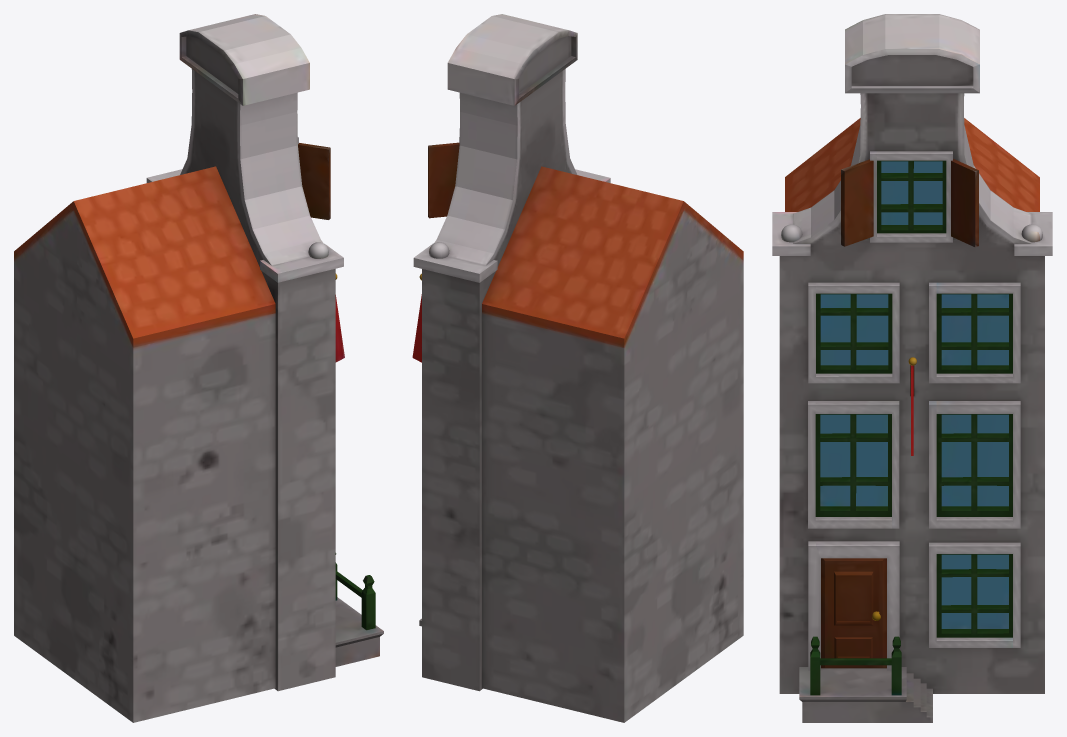
Rendered from sf_house_4.glb.
3 renders of one model, left to right at view 1: azimuth 30°, elevation 25°; view 2: azimuth 150°, elevation 25°; view 3: azimuth 270°, elevation 25°, orthographic. The views are drawn at different scales.
Parts seen in each view (by area): view 1: defaultMaterial; view 2: defaultMaterial; view 3: defaultMaterial.
Part boxes in pixels (left/top/right/bottom): defaultMaterial: left=14, top=14, right=383, bottom=722; defaultMaterial: left=412, top=14, right=743, bottom=722; defaultMaterial: left=772, top=14, right=1052, bottom=722.
Bounding box in the file's own units: 3.74 × 8 × 3.14.
1 material, 1 textured.
